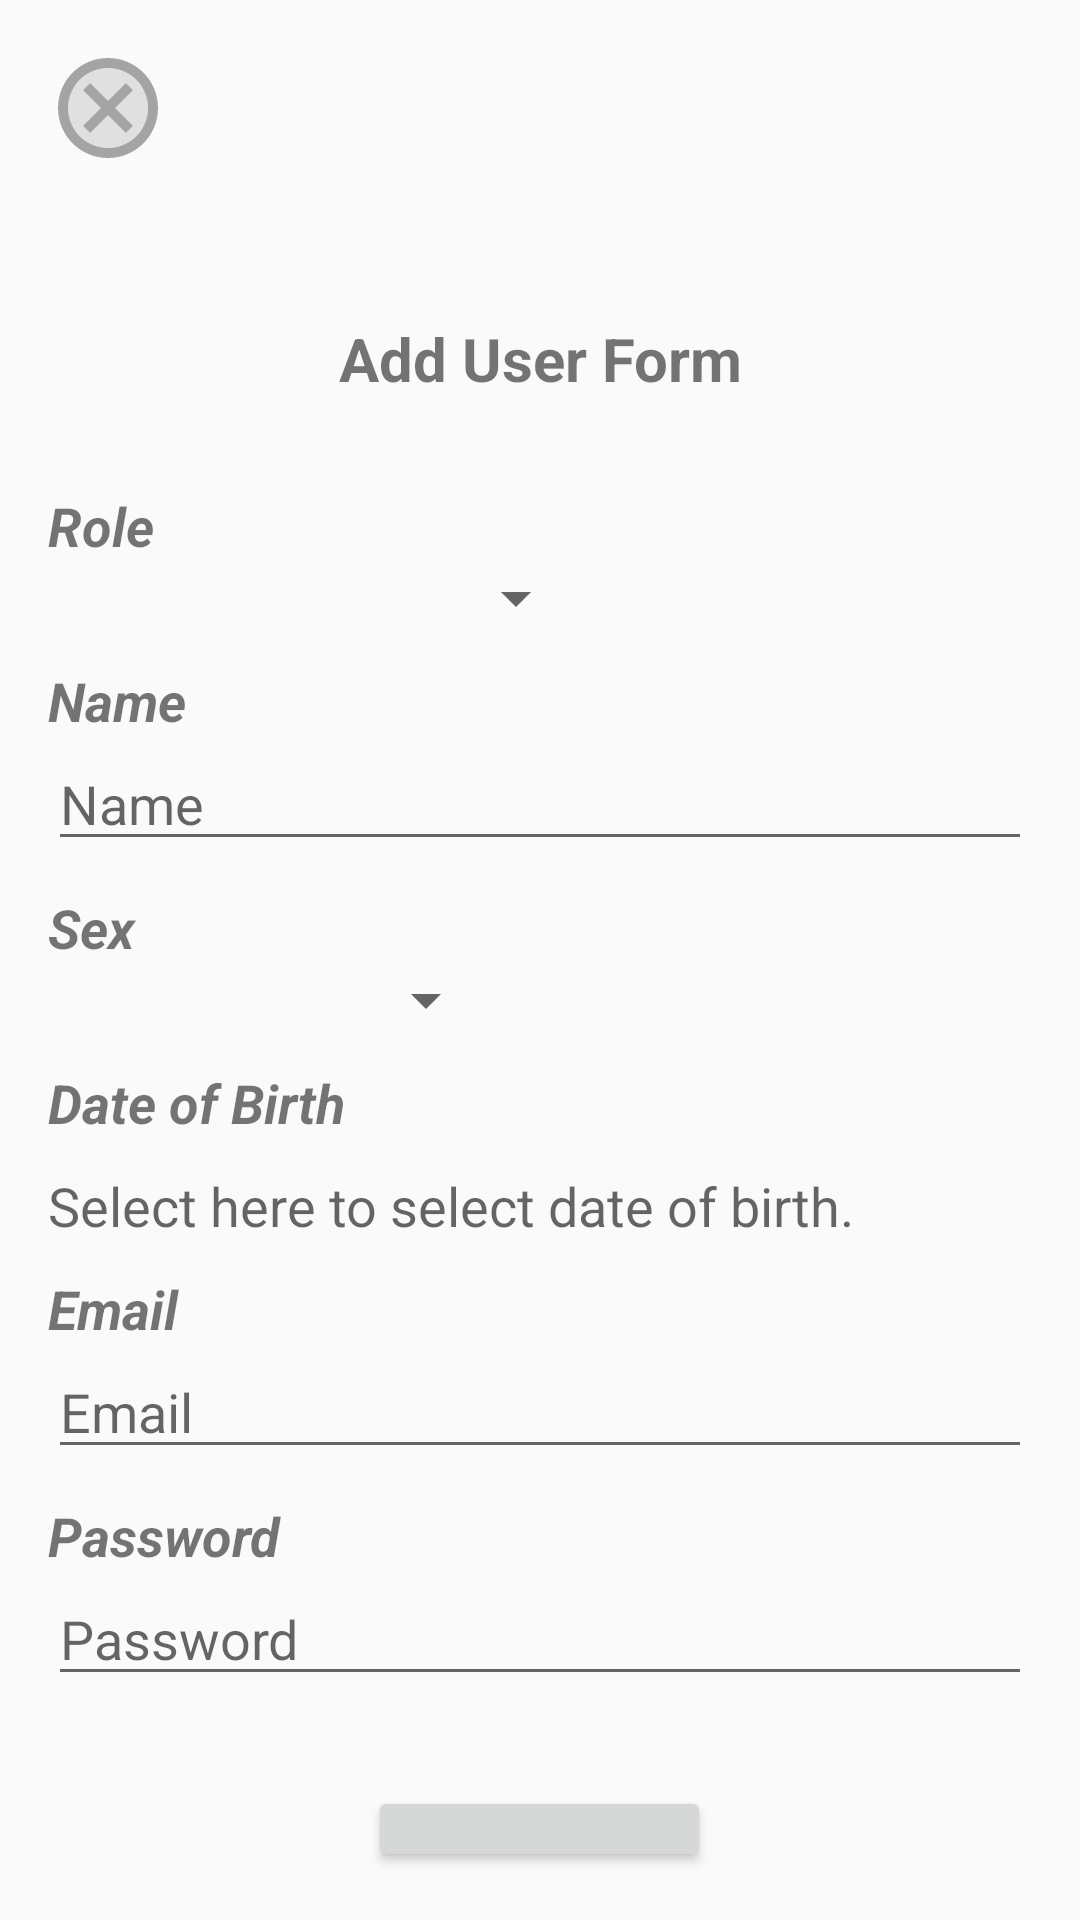

Screen size 1080 × 1920. Icon name, then its center in pixels as (x,y):
cancel: (108,108)
